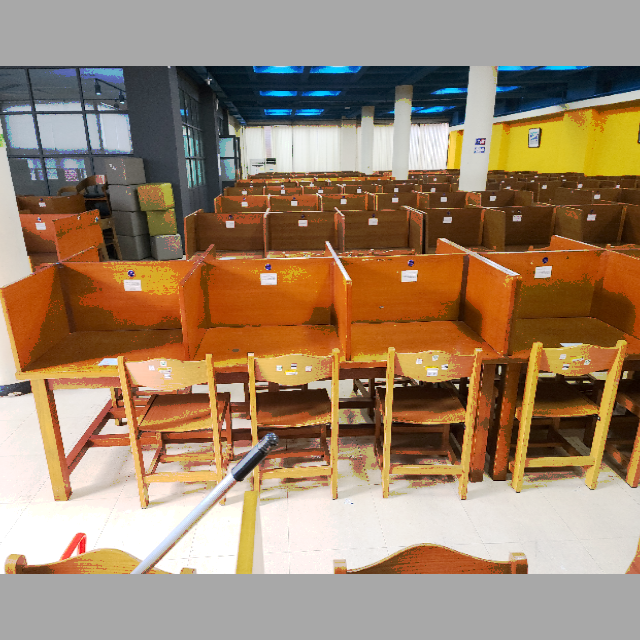empty: (8, 267, 182, 424), (186, 259, 351, 418), (355, 254, 504, 430)
